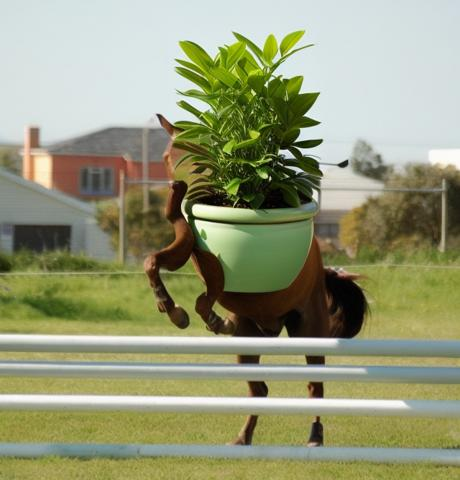horse: (143, 114, 372, 447)
pottedplant: (175, 25, 321, 293)
